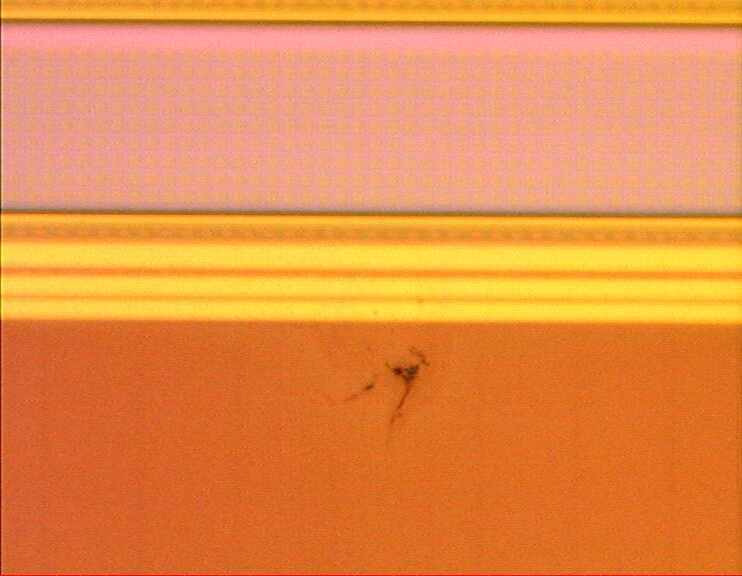PIQ PARTICLE: (334, 339, 436, 432)
